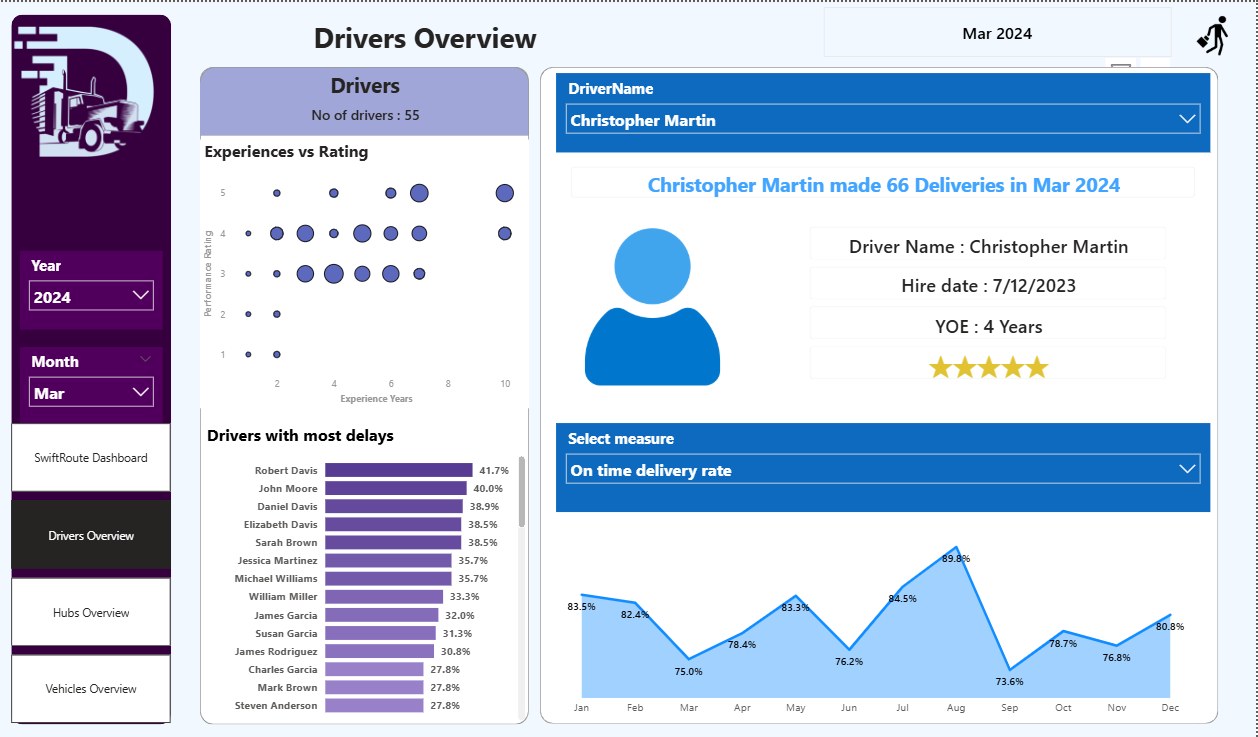

This screenshot's page, from the dashboard's own definition file:
{"tool":"powerbi","page":{"name":"Drivers Overview","canvas":[1450,850],"ordinal":1},"visuals":[{"type":"shape","box":[13,14.4,184.8,820],"z":0},{"type":"textbox","box":[215.1,14.4,551.5,60.6],"z":1000},{"type":"slicer","fields":{"Values":["Date table.Year"]},"box":[23.1,287.3,164.6,90.9],"z":2000},{"type":"slicer","fields":{"Values":["Date table.Month"]},"box":[23.1,398.4,164.6,88.1],"z":3000},{"type":"shape","box":[231,75.1,379.7,759.3],"z":4000},{"type":"shape","box":[231,75.1,379.7,79.4],"z":5000},{"type":"textbox","box":[317.6,75.1,207.9,44.8],"z":6000},{"type":"cardVisual","fields":{"Data":["Drivers.No of drivers"]},"box":[330.6,98.2,183.3,60.6],"z":7000},{"type":"scatterChart","title":"Experiences vs Rating","fields":{"X":["Drivers.Experience Years"],"Y":["Drivers.Performance Rating"],"Size":["Sum(Drivers.Experience Years)1"]},"box":[231,158.8,379.7,310.4],"z":8000},{"type":"barChart","title":"Drivers with most delays","fields":{"Category":["Drivers.DriverName"],"Y":["Orders (1).Delayed delivery rate"]},"box":[233.2,486.5,377.7,348.2],"z":9000},{"type":"image","box":[0,0,197.8,219.4],"z":10000},{"type":"cardVisual","fields":{"Data":["Orders (1).Year Month Title"]},"box":[951.3,5.8,401.3,57.7],"z":11000},{"type":"shape","box":[623.3,74.6,783.5,758.6],"z":12000},{"type":"slicer","fields":{"Values":["Drivers.DriverName"]},"box":[642.4,82.3,755,90.9],"z":13000},{"type":"cardVisual","fields":{"Data":["Drivers.Drivers Title"]},"box":[642.4,173.2,755,70.7],"z":14000},{"type":"cardVisual","fields":{"Data":["Drivers.Driver name Title","Drivers.Hire date Title","Drivers.YOE","Drivers.Star rating"]},"box":[918.1,242.5,446.1,210.8],"z":15000},{"type":"image","box":[623.6,261.3,259.9,181.9],"z":16000},{"type":"stackedAreaChart","fields":{"Y":["Orders (1).On time delivery rate"],"Category":["Date table.Month"]},"box":[642.4,613.5,739.1,219.4],"z":17000},{"type":"slicer","fields":{"Values":["Select measure.Select measure"]},"box":[642.4,486.5,755,102.5],"z":18000},{"type":"image","box":[1352.7,14.4,96.7,49.1],"z":19000},{"type":"pageNavigator","box":[13,486.5,184.8,347.9],"z":19001}]}

Visuals, with their boxes on the page's 1450x850 design canvas (x1, y1, x2, y2). These are canvas units, not pixel positions in the 1258x737 screenshot, which may show the page scaled, cropped or inside an application window:
shape: x1=13 y1=14 x2=198 y2=834
textbox: x1=215 y1=14 x2=767 y2=75
slicer - Date table.Year: x1=23 y1=287 x2=188 y2=378
slicer - Date table.Month: x1=23 y1=398 x2=188 y2=486
shape: x1=231 y1=75 x2=611 y2=834
shape: x1=231 y1=75 x2=611 y2=154
textbox: x1=318 y1=75 x2=526 y2=120
cardVisual - Drivers.No of drivers: x1=331 y1=98 x2=514 y2=159
"Experiences vs Rating" scatterChart: x1=231 y1=159 x2=611 y2=469
"Drivers with most delays" barChart: x1=233 y1=486 x2=611 y2=835
image: x1=0 y1=0 x2=198 y2=219
cardVisual - Orders (1).Year Month Title: x1=951 y1=6 x2=1353 y2=64
shape: x1=623 y1=75 x2=1407 y2=833
slicer - Drivers.DriverName: x1=642 y1=82 x2=1397 y2=173
cardVisual - Drivers.Drivers Title: x1=642 y1=173 x2=1397 y2=244
cardVisual - Drivers.Driver name Title x Drivers.Hire date Title: x1=918 y1=242 x2=1364 y2=453
image: x1=624 y1=261 x2=884 y2=443
stackedAreaChart - Orders (1).On time delivery rate x Date table.Month: x1=642 y1=614 x2=1382 y2=833
slicer - Select measure.Select measure: x1=642 y1=486 x2=1397 y2=589
image: x1=1353 y1=14 x2=1449 y2=64
pageNavigator: x1=13 y1=486 x2=198 y2=834
